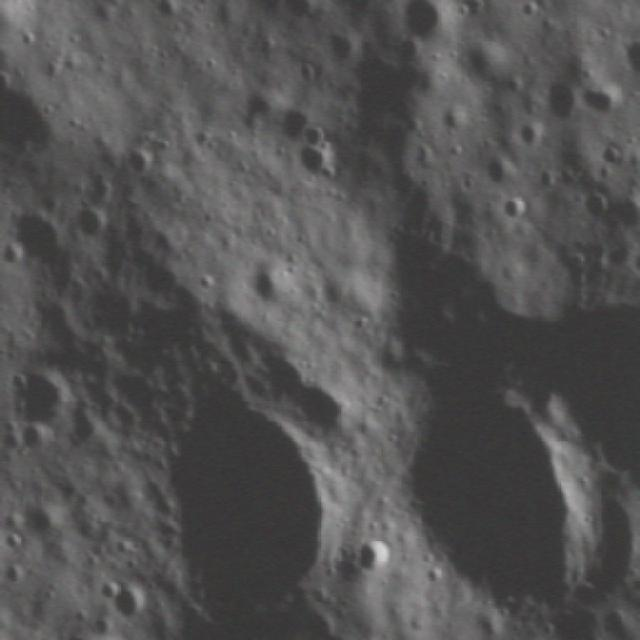crater: (358, 390, 613, 628), (123, 380, 345, 635), (527, 283, 640, 503), (5, 364, 70, 434), (238, 262, 296, 320), (325, 537, 400, 580), (282, 144, 340, 193), (398, 0, 464, 43), (542, 76, 586, 135), (580, 82, 625, 132), (477, 152, 529, 194), (69, 201, 114, 245), (492, 189, 540, 229), (578, 186, 619, 228), (609, 193, 640, 244), (623, 488, 640, 577), (618, 34, 640, 84), (621, 246, 640, 289)
